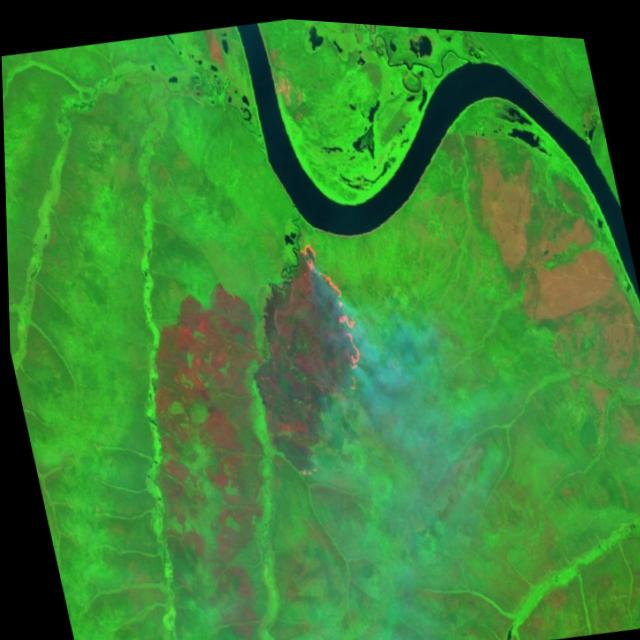fire: (295, 228, 370, 394), (292, 455, 320, 481)
